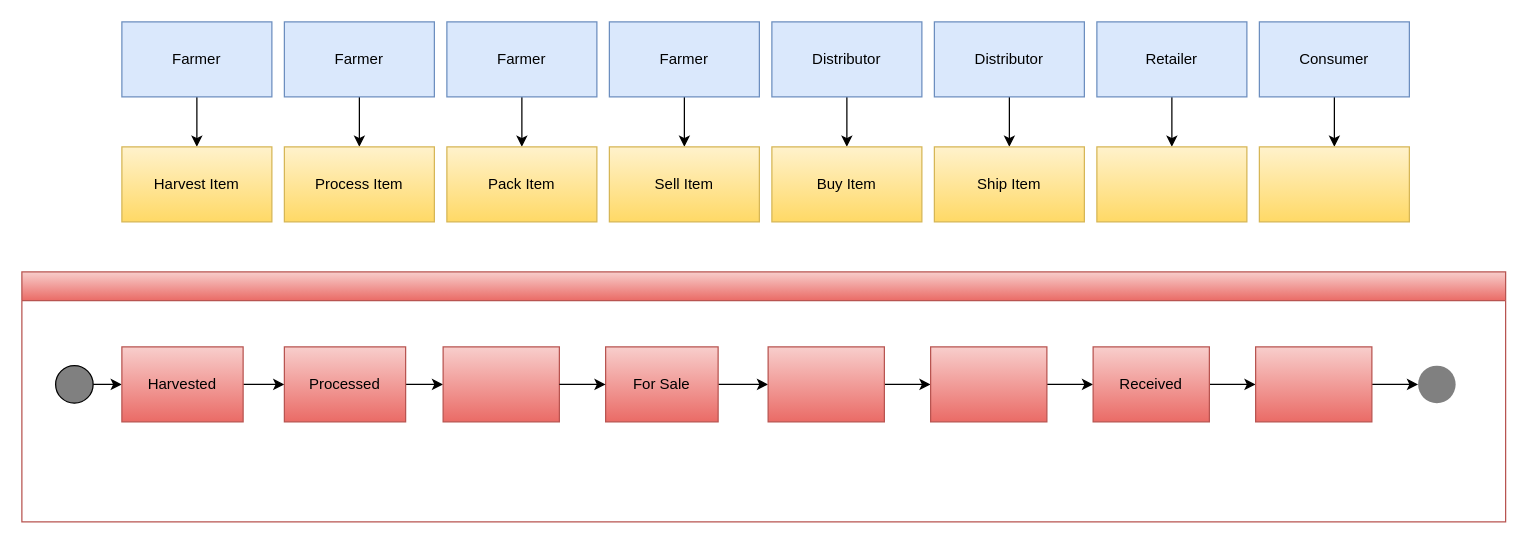
Some shapes in this 1528 by 544 pixel diagram are drawn without their labels. Here are the shapes that lost their labels. From the top down, the box of each, then its label:
(1096, 146, 1247, 222): Receive Item
(1258, 146, 1409, 222): Purchase Item
(442, 346, 559, 422): Packaged
(21, 271, 1506, 522): Coffee State
(767, 346, 884, 422): Sold
(929, 346, 1047, 422): Shipped
(1254, 346, 1372, 422): Purchased
